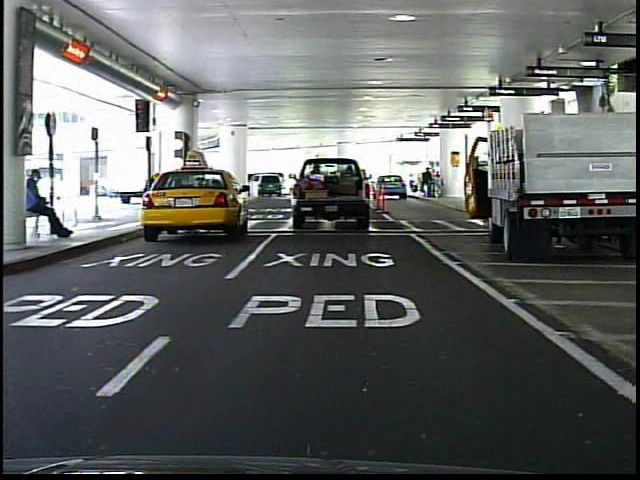person: (29, 165, 81, 244), (142, 166, 164, 220)
